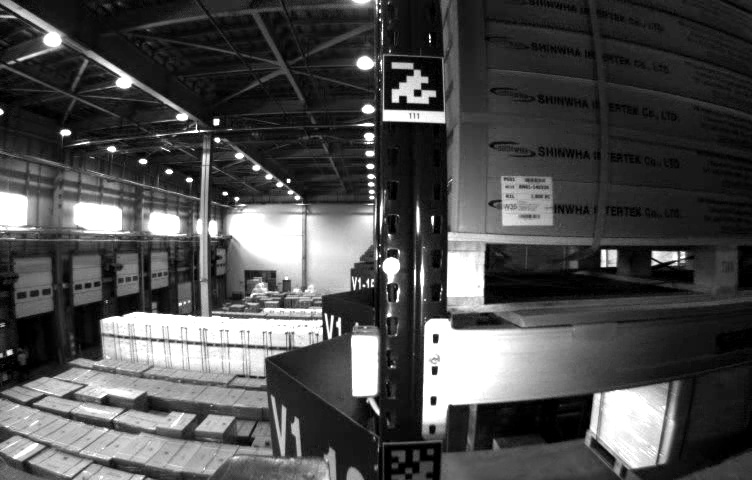True Barcode: (501, 174, 554, 225)
